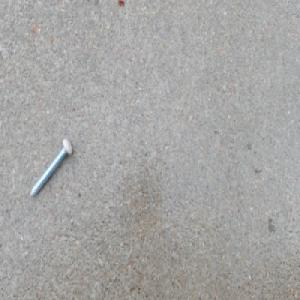Nail: (27, 135, 73, 200)
